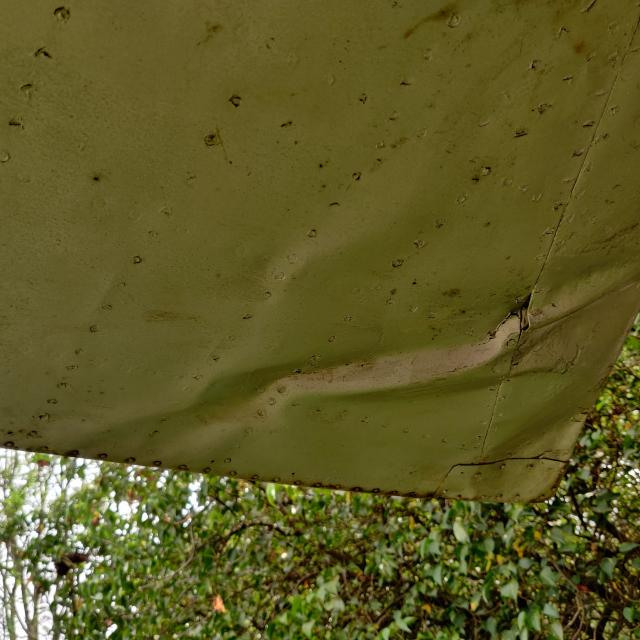crack: (474, 307, 526, 349)
dent: (49, 232, 640, 520), (465, 405, 589, 512)
